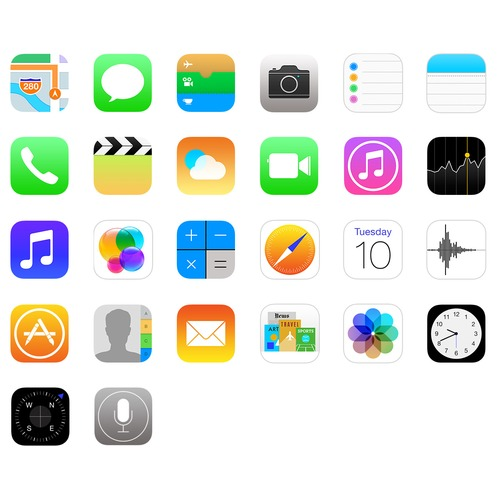calendar: (342, 218, 403, 280)
camera: (258, 135, 318, 195)
clock: (427, 304, 486, 362)
mail: (177, 304, 234, 362)
message: (93, 53, 154, 114)
phone: (8, 134, 69, 196)
